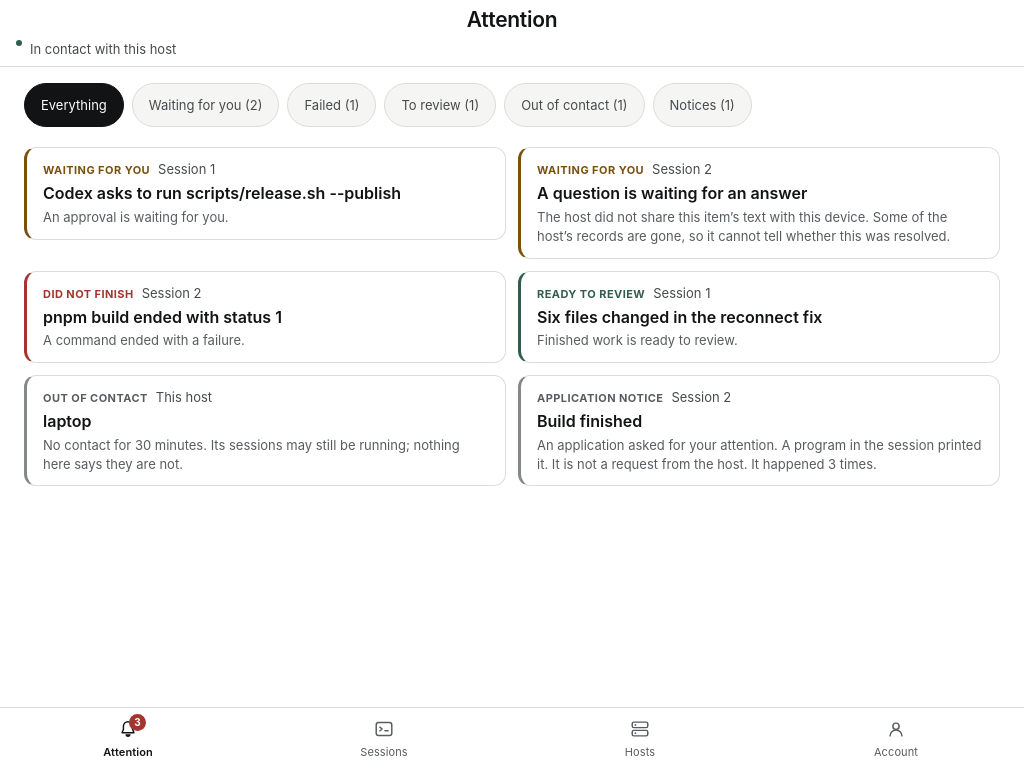
Test case: forgetting a host on a phone › asks before it forgets a host, and forgets it once the person says so
Click the button "Hosts". click: click(640, 738)
box: top-left (512, 708), bottom-right (768, 767)
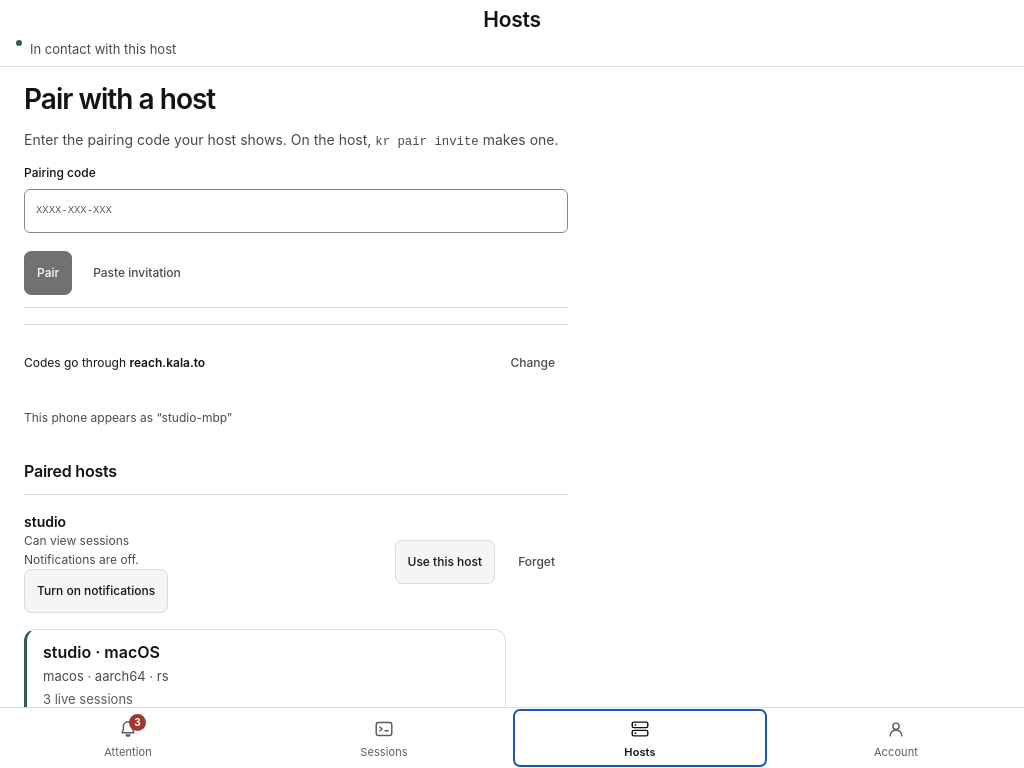
Click the button with test id "forget-host". click: click(537, 562)
box: top-left (505, 540), bottom-right (568, 584)
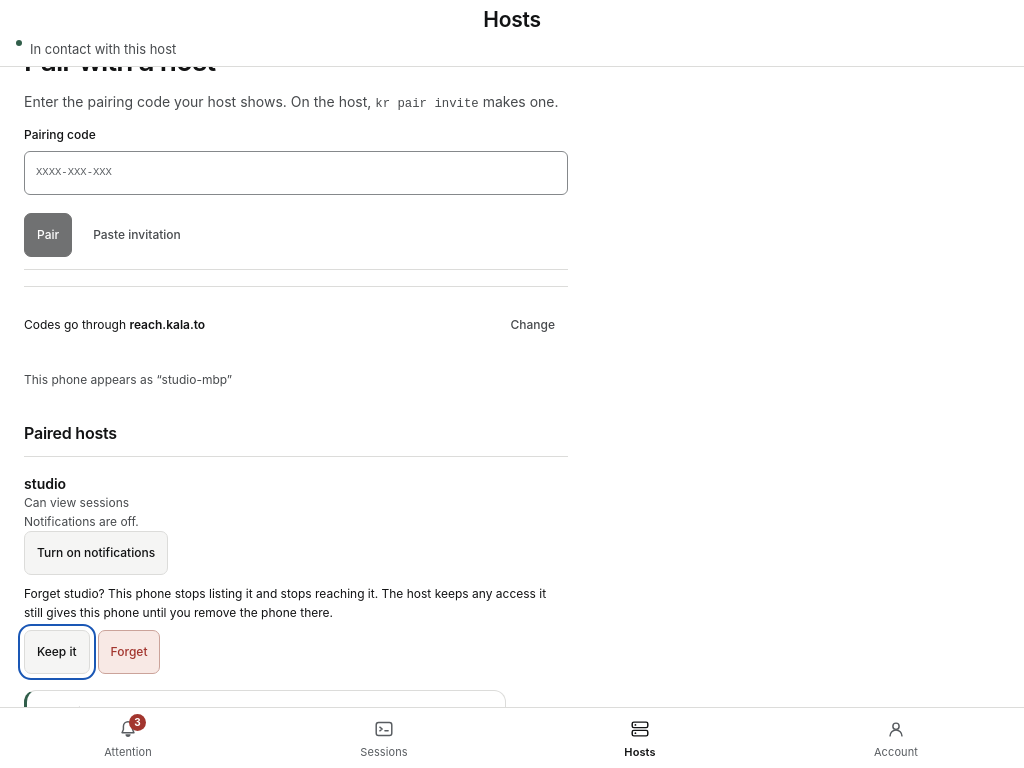
expect the element with test id "forget-host-ask" does not show "pair with it again": met, box top-left (24, 585), bottom-right (568, 674)
expect the element with test id "forget-host-ask" shows "Forget studio?": met, box top-left (24, 585), bottom-right (568, 674)
expect the element with test id "forget-host-ask" shows "keeps any access it still gives this phone": met, box top-left (24, 586), bottom-right (546, 620)
Click the button with test id "keep-host". click: click(57, 652)
box: top-left (24, 630), bottom-right (90, 674)
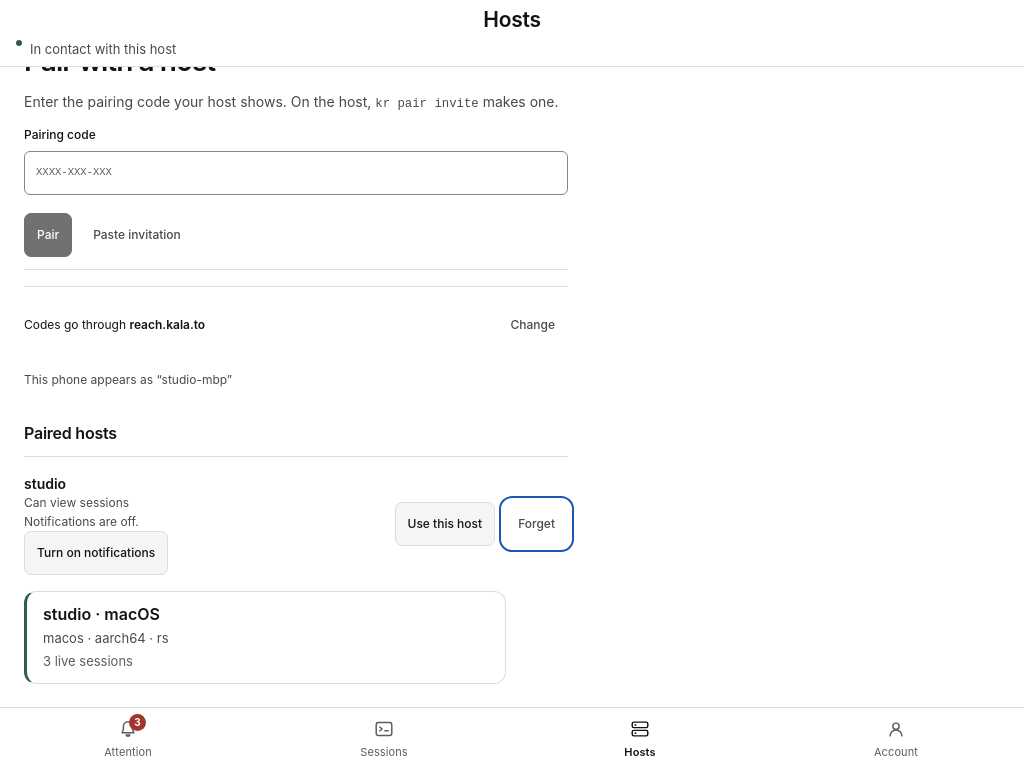
expect the element with test id "forget-host-ask" is gone: met
Click the button with test id "forget-host". click: click(537, 524)
box: top-left (505, 502), bottom-right (568, 546)
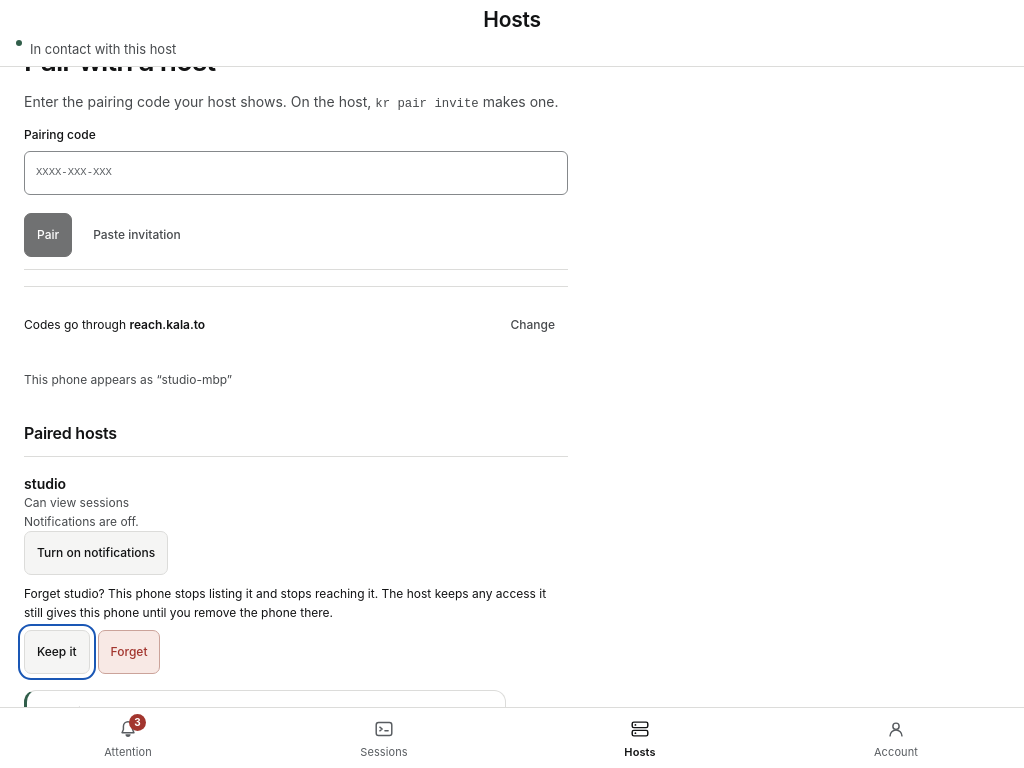
Click the button with test id "forget-host-confirm". click: click(129, 652)
box: top-left (98, 630), bottom-right (160, 674)
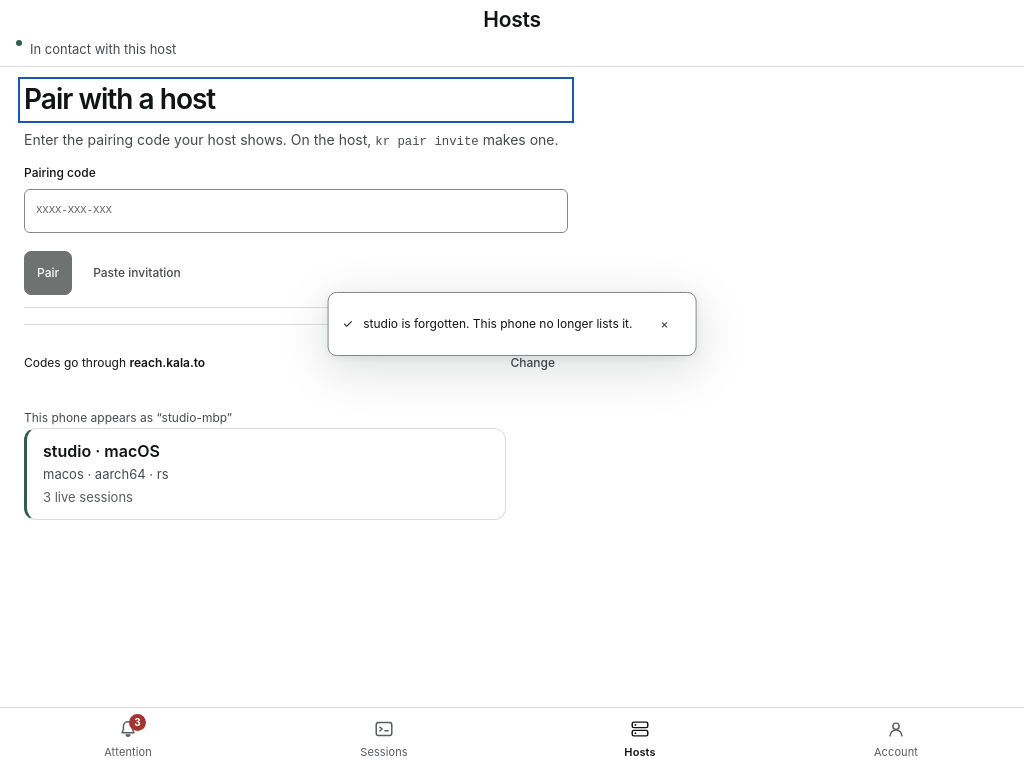
expect the heading with test id "paired-hosts" is gone: met
expect the text "studio is forgotten. This phone no longer lists it." is shown: met, box top-left (363, 316), bottom-right (632, 332)
